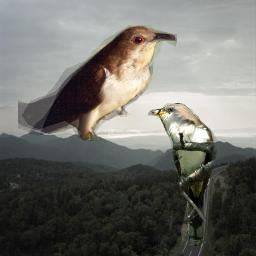Cuckoo: (18, 25, 177, 141), (148, 103, 217, 246)
